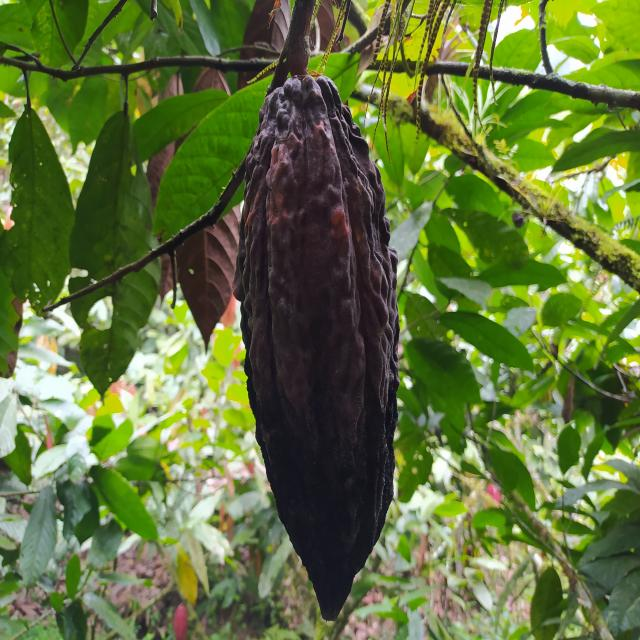Fitoftora: (232, 73, 401, 624)
